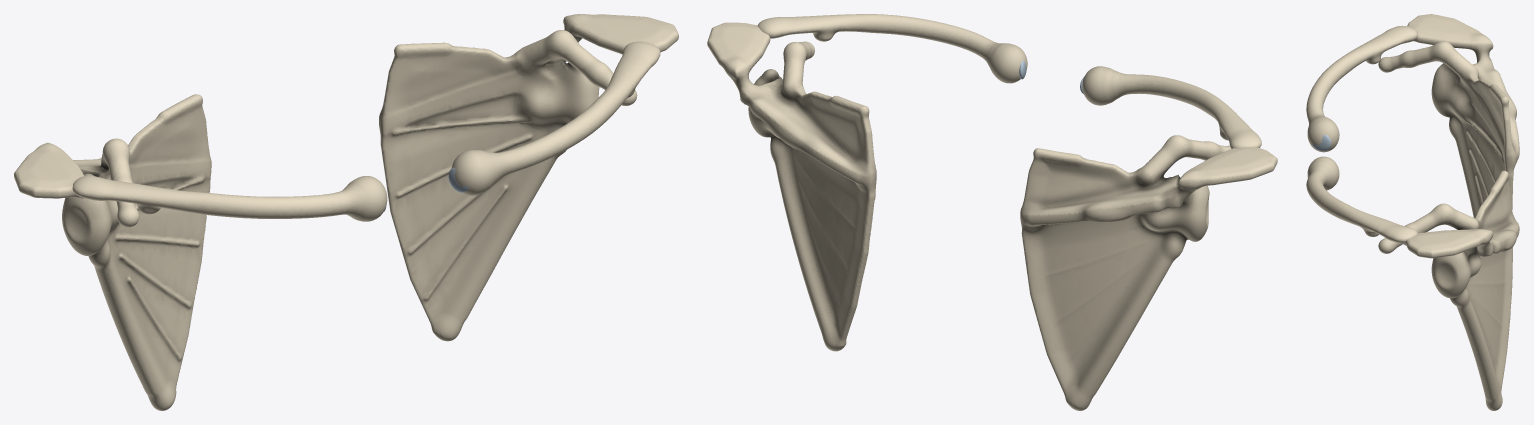
Rendered from hombro.glb.
3 views of the same model, side by side, from view 1: azimuth 30°, elevation 25°; view 2: azimuth 150°, elevation 25°; view 3: azimuth 270°, elevation 25° (orthographic). The views are drawn at different scales.
Visible parts, largest first — view 1: scapula_L_infraspinous_fossa, scapula_R_infraspinous_fossa, clavicle_R, scapula_L_supraspinous_fossa, clavicle_L, scapula_R_supraspinous_fossa, scapula_L_acromion, scapula_L_glenoid, scapula_R_acromion, scapula_L_coracoid, scapula_R_glenoid, scapula_R_coracoid (+2 smaller); view 2: scapula_R_infraspinous_fossa, scapula_L_infraspinous_fossa, clavicle_L, scapula_L_spine, scapula_R_supraspinous_fossa, clavicle_R, scapula_R_spine, scapula_L_supraspinous_fossa, scapula_R_acromion, scapula_L_acromion, scapula_R_glenoid, scapula_R_coracoid (+2 smaller); view 3: scapula_L_infraspinous_fossa, scapula_R_infraspinous_fossa, clavicle_R, clavicle_L, scapula_R_acromion, scapula_L_acromion, scapula_R_supraspinous_fossa, scapula_R_coracoid, scapula_L_glenoid, scapula_L_coracoid, scapula_L_supraspinous_fossa, scapula_R_glenoid (+2 smaller).
Part boxes in pixels (left/top/right/bottom): scapula_L_infraspinous_fossa: left=379, top=74, right=566, bottom=341; scapula_R_infraspinous_fossa: left=88, top=168, right=211, bottom=410; clavicle_R: left=72, top=175, right=387, bottom=221; scapula_L_supraspinous_fossa: left=380, top=42, right=549, bottom=127; clavicle_L: left=451, top=41, right=660, bottom=195; scapula_R_supraspinous_fossa: left=109, top=94, right=211, bottom=179; scapula_L_acromion: left=563, top=14, right=678, bottom=54; scapula_L_glenoid: left=519, top=62, right=599, bottom=125; scapula_R_acromion: left=14, top=142, right=84, bottom=198; scapula_L_coracoid: left=516, top=30, right=637, bottom=105; scapula_R_glenoid: left=62, top=173, right=118, bottom=255; scapula_R_coracoid: left=101, top=138, right=139, bottom=227; scapula_R_infraspinous_fossa: left=1021, top=214, right=1186, bottom=410; scapula_L_infraspinous_fossa: left=770, top=135, right=876, bottom=351; clavicle_L: left=757, top=14, right=1027, bottom=83; scapula_L_spine: left=728, top=73, right=875, bottom=189; scapula_R_supraspinous_fossa: left=1021, top=148, right=1140, bottom=208; clavicle_R: left=1082, top=66, right=1261, bottom=148; scapula_R_spine: left=1020, top=174, right=1199, bottom=230; scapula_L_supraspinous_fossa: left=792, top=86, right=876, bottom=179; scapula_R_acromion: left=1178, top=146, right=1277, bottom=188; scapula_L_acromion: left=707, top=22, right=770, bottom=79; scapula_R_glenoid: left=1140, top=185, right=1209, bottom=241; scapula_R_coracoid: left=1137, top=135, right=1230, bottom=186; scapula_L_infraspinous_fossa: left=1450, top=247, right=1512, bottom=410; scapula_R_infraspinous_fossa: left=1449, top=81, right=1514, bottom=218; clavicle_R: left=1306, top=25, right=1417, bottom=152; clavicle_L: left=1306, top=156, right=1417, bottom=243; scapula_R_acromion: left=1407, top=14, right=1493, bottom=51; scapula_L_acromion: left=1403, top=229, right=1493, bottom=258; scapula_R_supraspinous_fossa: left=1458, top=74, right=1514, bottom=162; scapula_R_coracoid: left=1378, top=41, right=1478, bottom=83; scapula_L_glenoid: left=1431, top=251, right=1481, bottom=298; scapula_L_coracoid: left=1378, top=203, right=1478, bottom=253; scapula_L_supraspinous_fossa: left=1475, top=170, right=1513, bottom=229; scapula_R_glenoid: left=1431, top=63, right=1469, bottom=120.
Size of the model in its own units: 0.3791 by 0.1737 by 0.1429.
